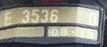clone-license-plate: (0, 5, 101, 41)
